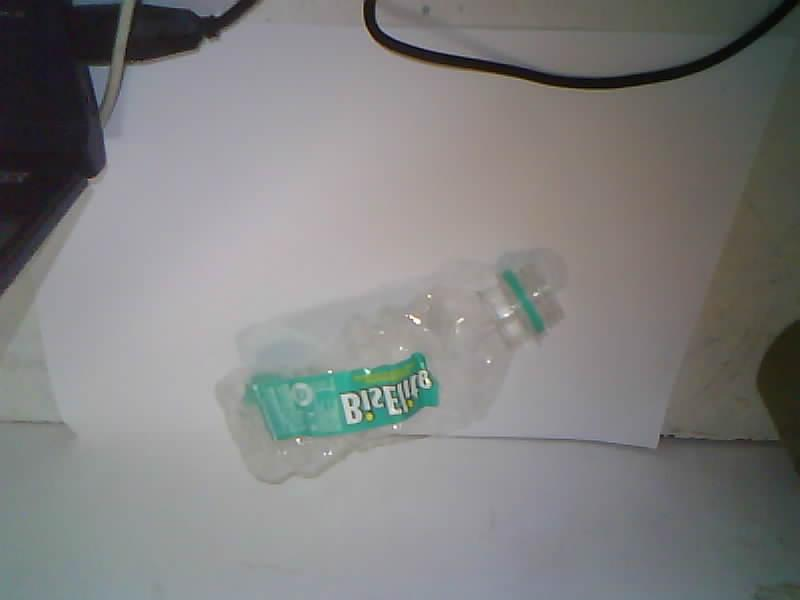non-biodegradable: (217, 252, 563, 483)
